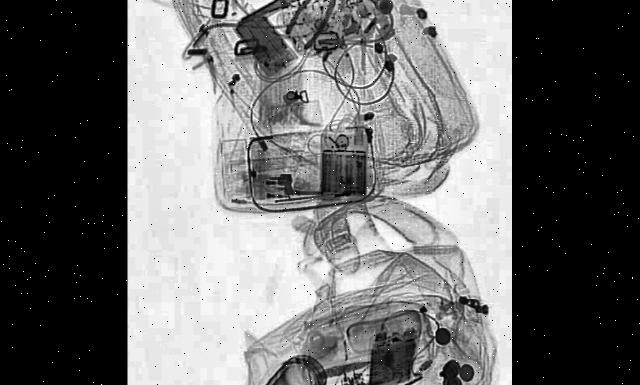Pliers: (285, 0, 359, 63), (230, 0, 328, 24)
Wrench: (303, 0, 395, 18)
